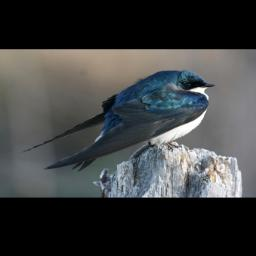Swallow: (20, 69, 214, 171)
